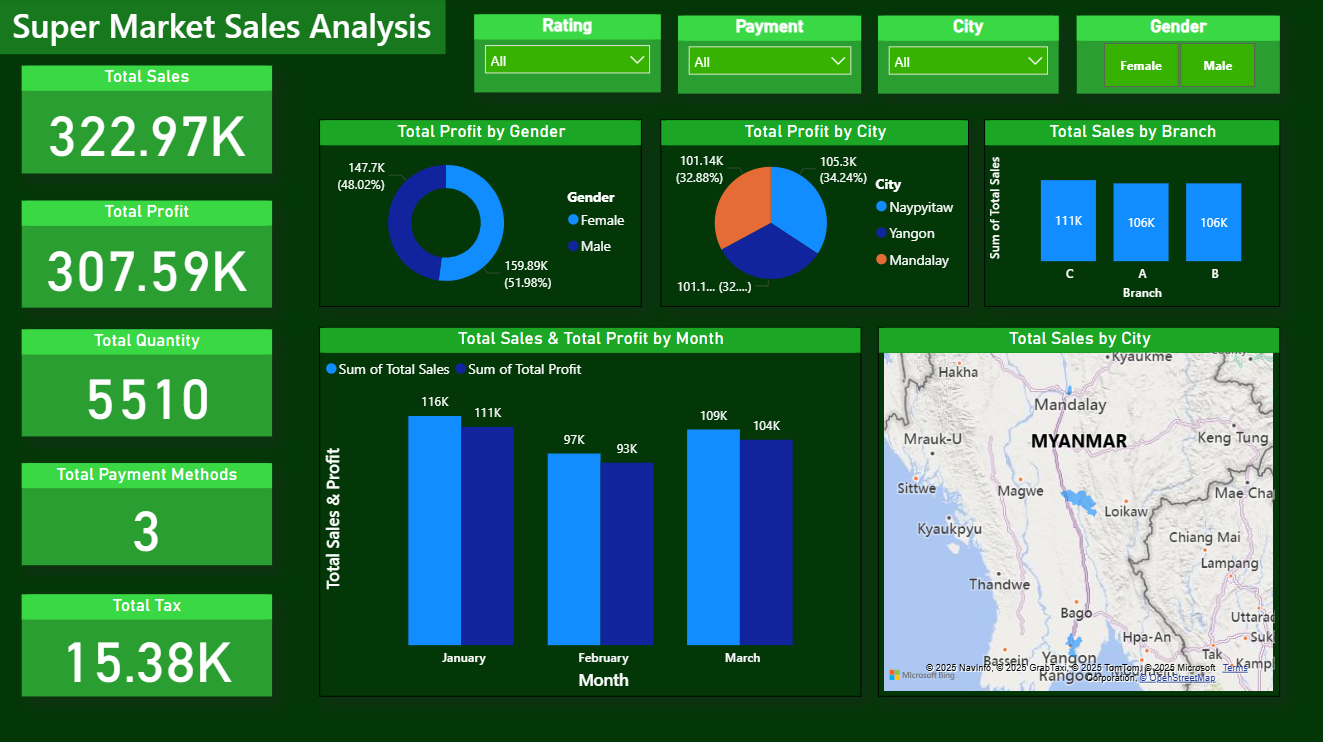

This screenshot's page, from the dashboard's own definition file:
{"tool":"powerbi","page":{"name":"Page 1","canvas":[1280,720],"ordinal":0},"visuals":[{"type":"textbox","box":[0,0,431.7,55],"z":0},{"type":"card","title":"Total Sales","fields":{"Values":["Sum(SuperMarket_Sales.Total Sales)"]},"box":[23.3,65.9,241.5,104.3],"z":1000},{"type":"card","title":"Total Profit","fields":{"Values":["Sum(SuperMarket_Sales.Total Profit)"]},"box":[23.3,196.2,241.5,102.9],"z":2000},{"type":"card","title":"Total Quantity","fields":{"Values":["Sum(SuperMarket_Sales.Quantity)"]},"box":[23.3,321.1,241.5,102.9],"z":3000},{"type":"card","title":"Total Payment Methods","fields":{"Values":["Count(SuperMarket_Sales.Payment)"]},"box":[23.3,450.1,241.5,98.8],"z":4000},{"type":"card","title":"Total Tax","fields":{"Values":["Sum(SuperMarket_Sales.Tax 5%)"]},"box":[23.3,576.3,241.5,98.8],"z":5000},{"type":"slicer","title":"Rating","fields":{"Values":["SuperMarket_Sales.Rating"]},"box":[459.7,16.5,179.8,75.5],"z":6000},{"type":"slicer","title":"Payment","fields":{"Values":["SuperMarket_Sales.Payment"]},"box":[655.9,17.8,177,75.5],"z":7000},{"type":"slicer","title":"City","fields":{"Values":["SuperMarket_Sales.City"]},"box":[849.4,17.8,174.3,75.5],"z":8000},{"type":"slicer","title":"Gender","fields":{"Values":["SuperMarket_Sales.Gender"]},"box":[1041.5,17.8,196.2,75.5],"z":9000},{"type":"donutChart","title":"Total Profit by Gender","fields":{"Category":["SuperMarket_Sales.Gender"],"Y":["Sum(SuperMarket_Sales.Total Profit)"]},"box":[310.1,118,311.5,181.1],"z":10000},{"type":"pieChart","title":"Total Profit by City","fields":{"Category":["SuperMarket_Sales.City"],"Y":["Sum(SuperMarket_Sales.Total Profit)"]},"box":[639.5,118,297.8,181.1],"z":11000},{"type":"clusteredColumnChart","title":"Total Sales by Branch","fields":{"Category":["SuperMarket_Sales.Branch"],"Y":["Sum(SuperMarket_Sales.Total Sales)"]},"box":[952.3,118,285.4,181.1],"z":12000},{"type":"lineClusteredColumnComboChart","title":"Total Sales & Total Profit by Month","fields":{"Y":["Sum(SuperMarket_Sales.Total Sales)","Sum(SuperMarket_Sales.Total Profit)"],"Category":["SuperMarket_Sales.Date.Variation.Date Hierarchy.Month"]},"box":[310.1,318.4,522.8,356.8],"z":13000},{"type":"filledMap","title":"Total Sales by City","fields":{"Category":["SuperMarket_Sales.City"]},"box":[849.4,318.4,388.3,356.8],"z":14000}]}

Visuals, with their boxes in screenshot pixels (x1, y1, x2, y2), scaled from the page's 1280x720 canvas onto the 1323x742 screenshot:
textbox: bbox=[0, 0, 446, 57]
"Total Sales" card: bbox=[24, 68, 274, 175]
"Total Profit" card: bbox=[24, 202, 274, 308]
"Total Quantity" card: bbox=[24, 331, 274, 437]
"Total Payment Methods" card: bbox=[24, 464, 274, 566]
"Total Tax" card: bbox=[24, 594, 274, 696]
"Rating" slicer: bbox=[475, 17, 661, 95]
"Payment" slicer: bbox=[678, 18, 861, 96]
"City" slicer: bbox=[878, 18, 1058, 96]
"Gender" slicer: bbox=[1076, 18, 1279, 96]
"Total Profit by Gender" donutChart: bbox=[321, 122, 642, 308]
"Total Profit by City" pieChart: bbox=[661, 122, 969, 308]
"Total Sales by Branch" clusteredColumnChart: bbox=[984, 122, 1279, 308]
"Total Sales & Total Profit by Month" lineClusteredColumnComboChart: bbox=[321, 328, 861, 696]
"Total Sales by City" filledMap: bbox=[878, 328, 1279, 696]
